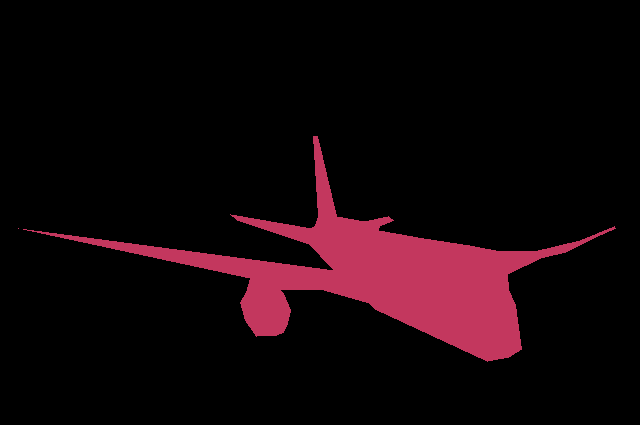Airplane: (18, 136, 616, 362)
